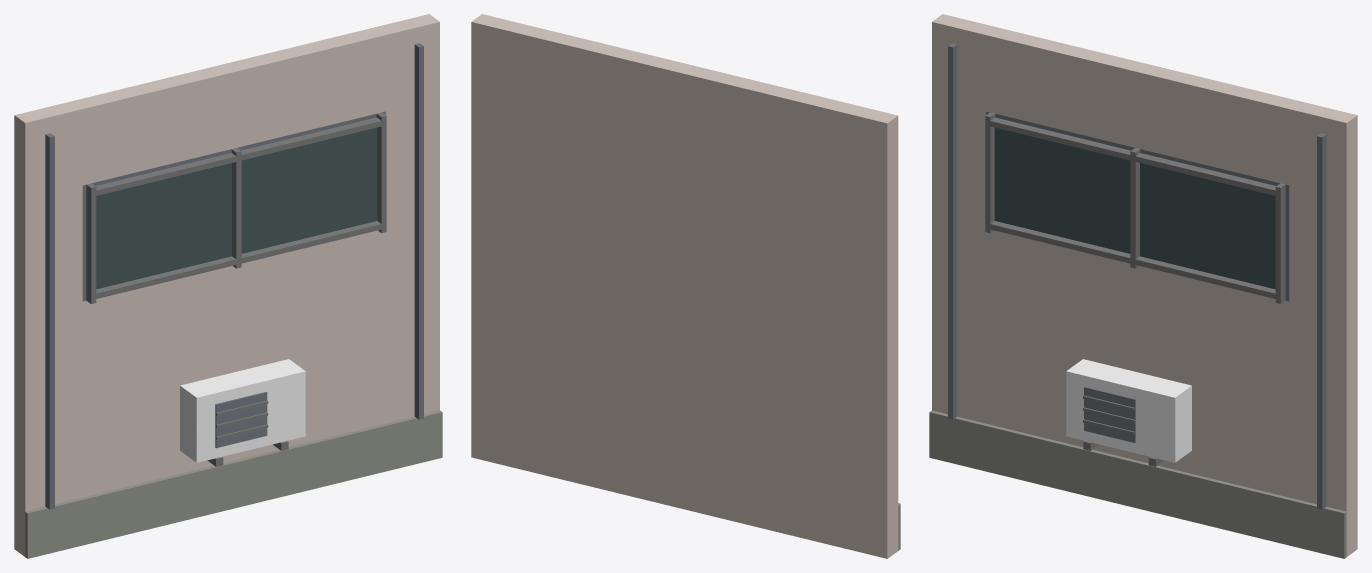
The model's file is mid-w1_close.fbx.
3 renders of one model, left to right at view 1: azimuth 30°, elevation 25°; view 2: azimuth 150°, elevation 25°; view 3: azimuth 330°, elevation 25°, orthographic.
Parts seen in each view (by area): view 1: a2004/0/mid-w1_close; view 2: a2004/0/mid-w1_close; view 3: a2004/0/mid-w1_close.
Boxes of the visible parts, bbox=[...] form: a2004/0/mid-w1_close: bbox=[14, 14, 442, 558]; a2004/0/mid-w1_close: bbox=[471, 14, 900, 558]; a2004/0/mid-w1_close: bbox=[929, 14, 1357, 558].
Bounding box in the file's own units: 4 × 4 × 0.52.
